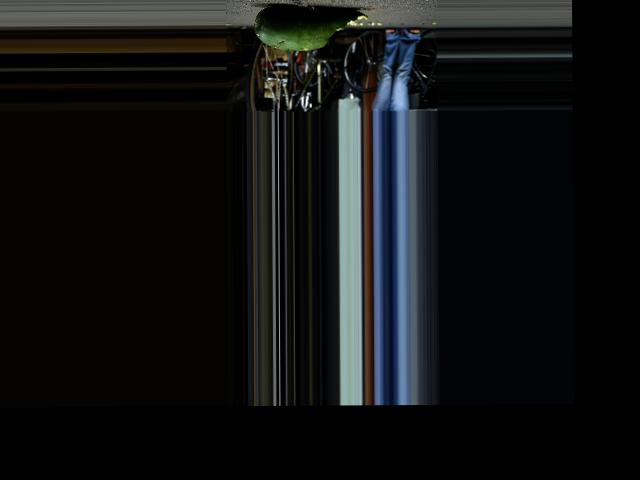cucumber: (254, 5, 370, 50)
